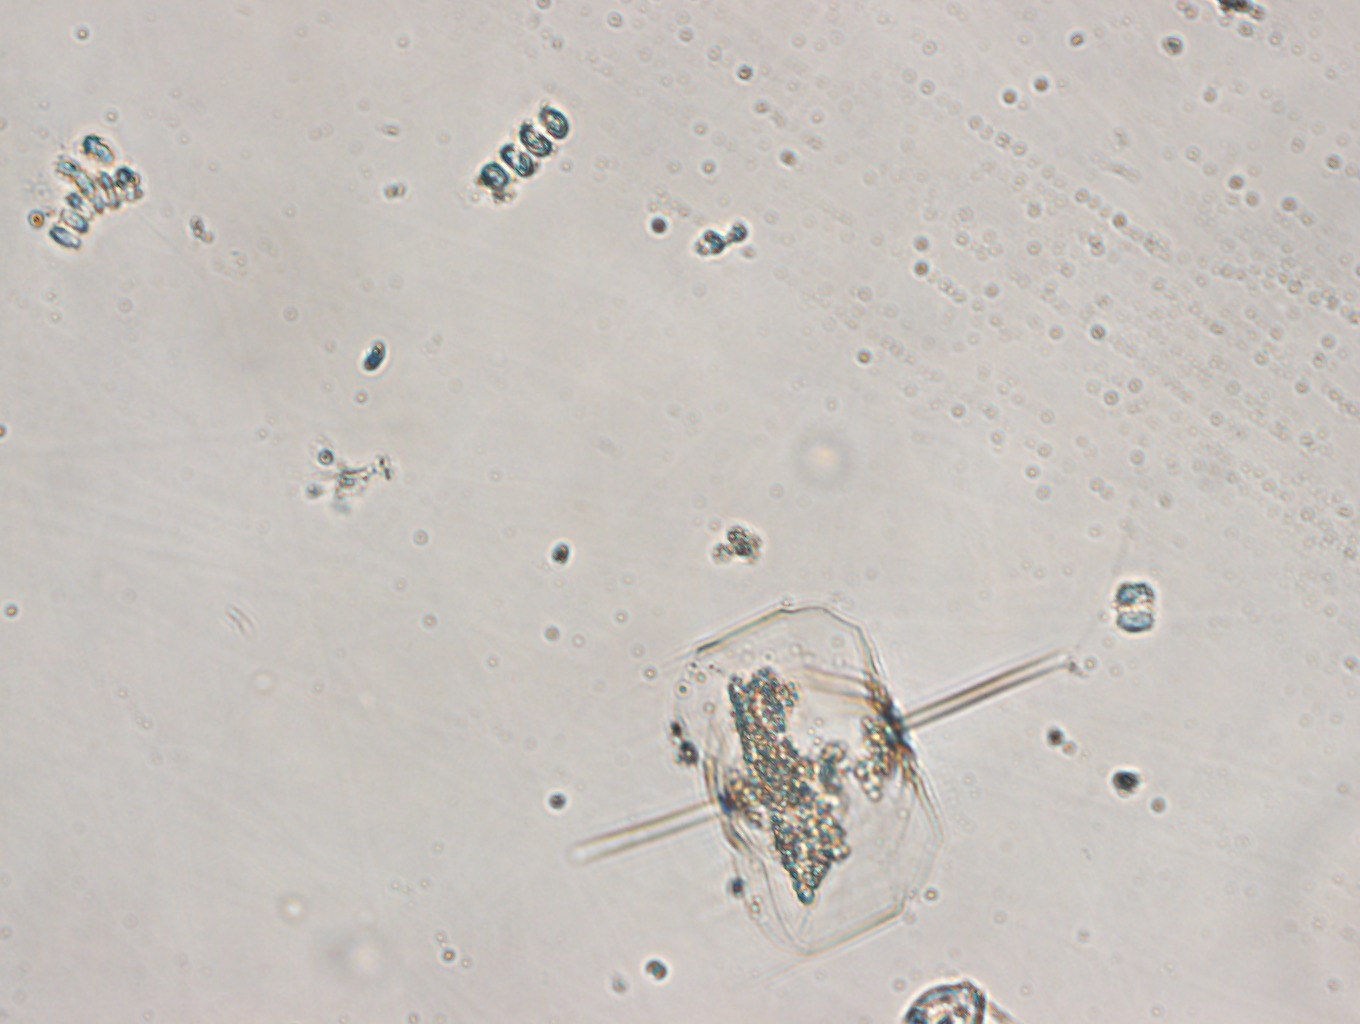ditylum: (559, 601, 1073, 961)
skeletonema: (476, 99, 572, 203), (49, 161, 147, 255)
